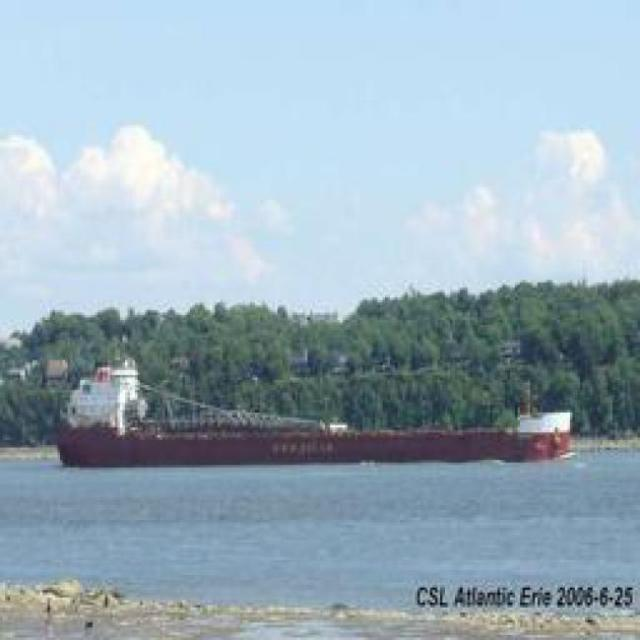boat: (40, 360, 602, 471)
